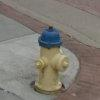Hydrant: (23, 18, 75, 97)
